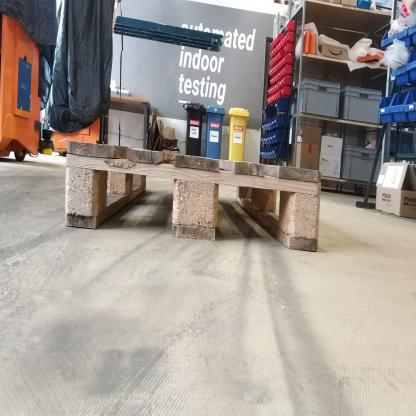BoxFace: (58, 136, 330, 261)
